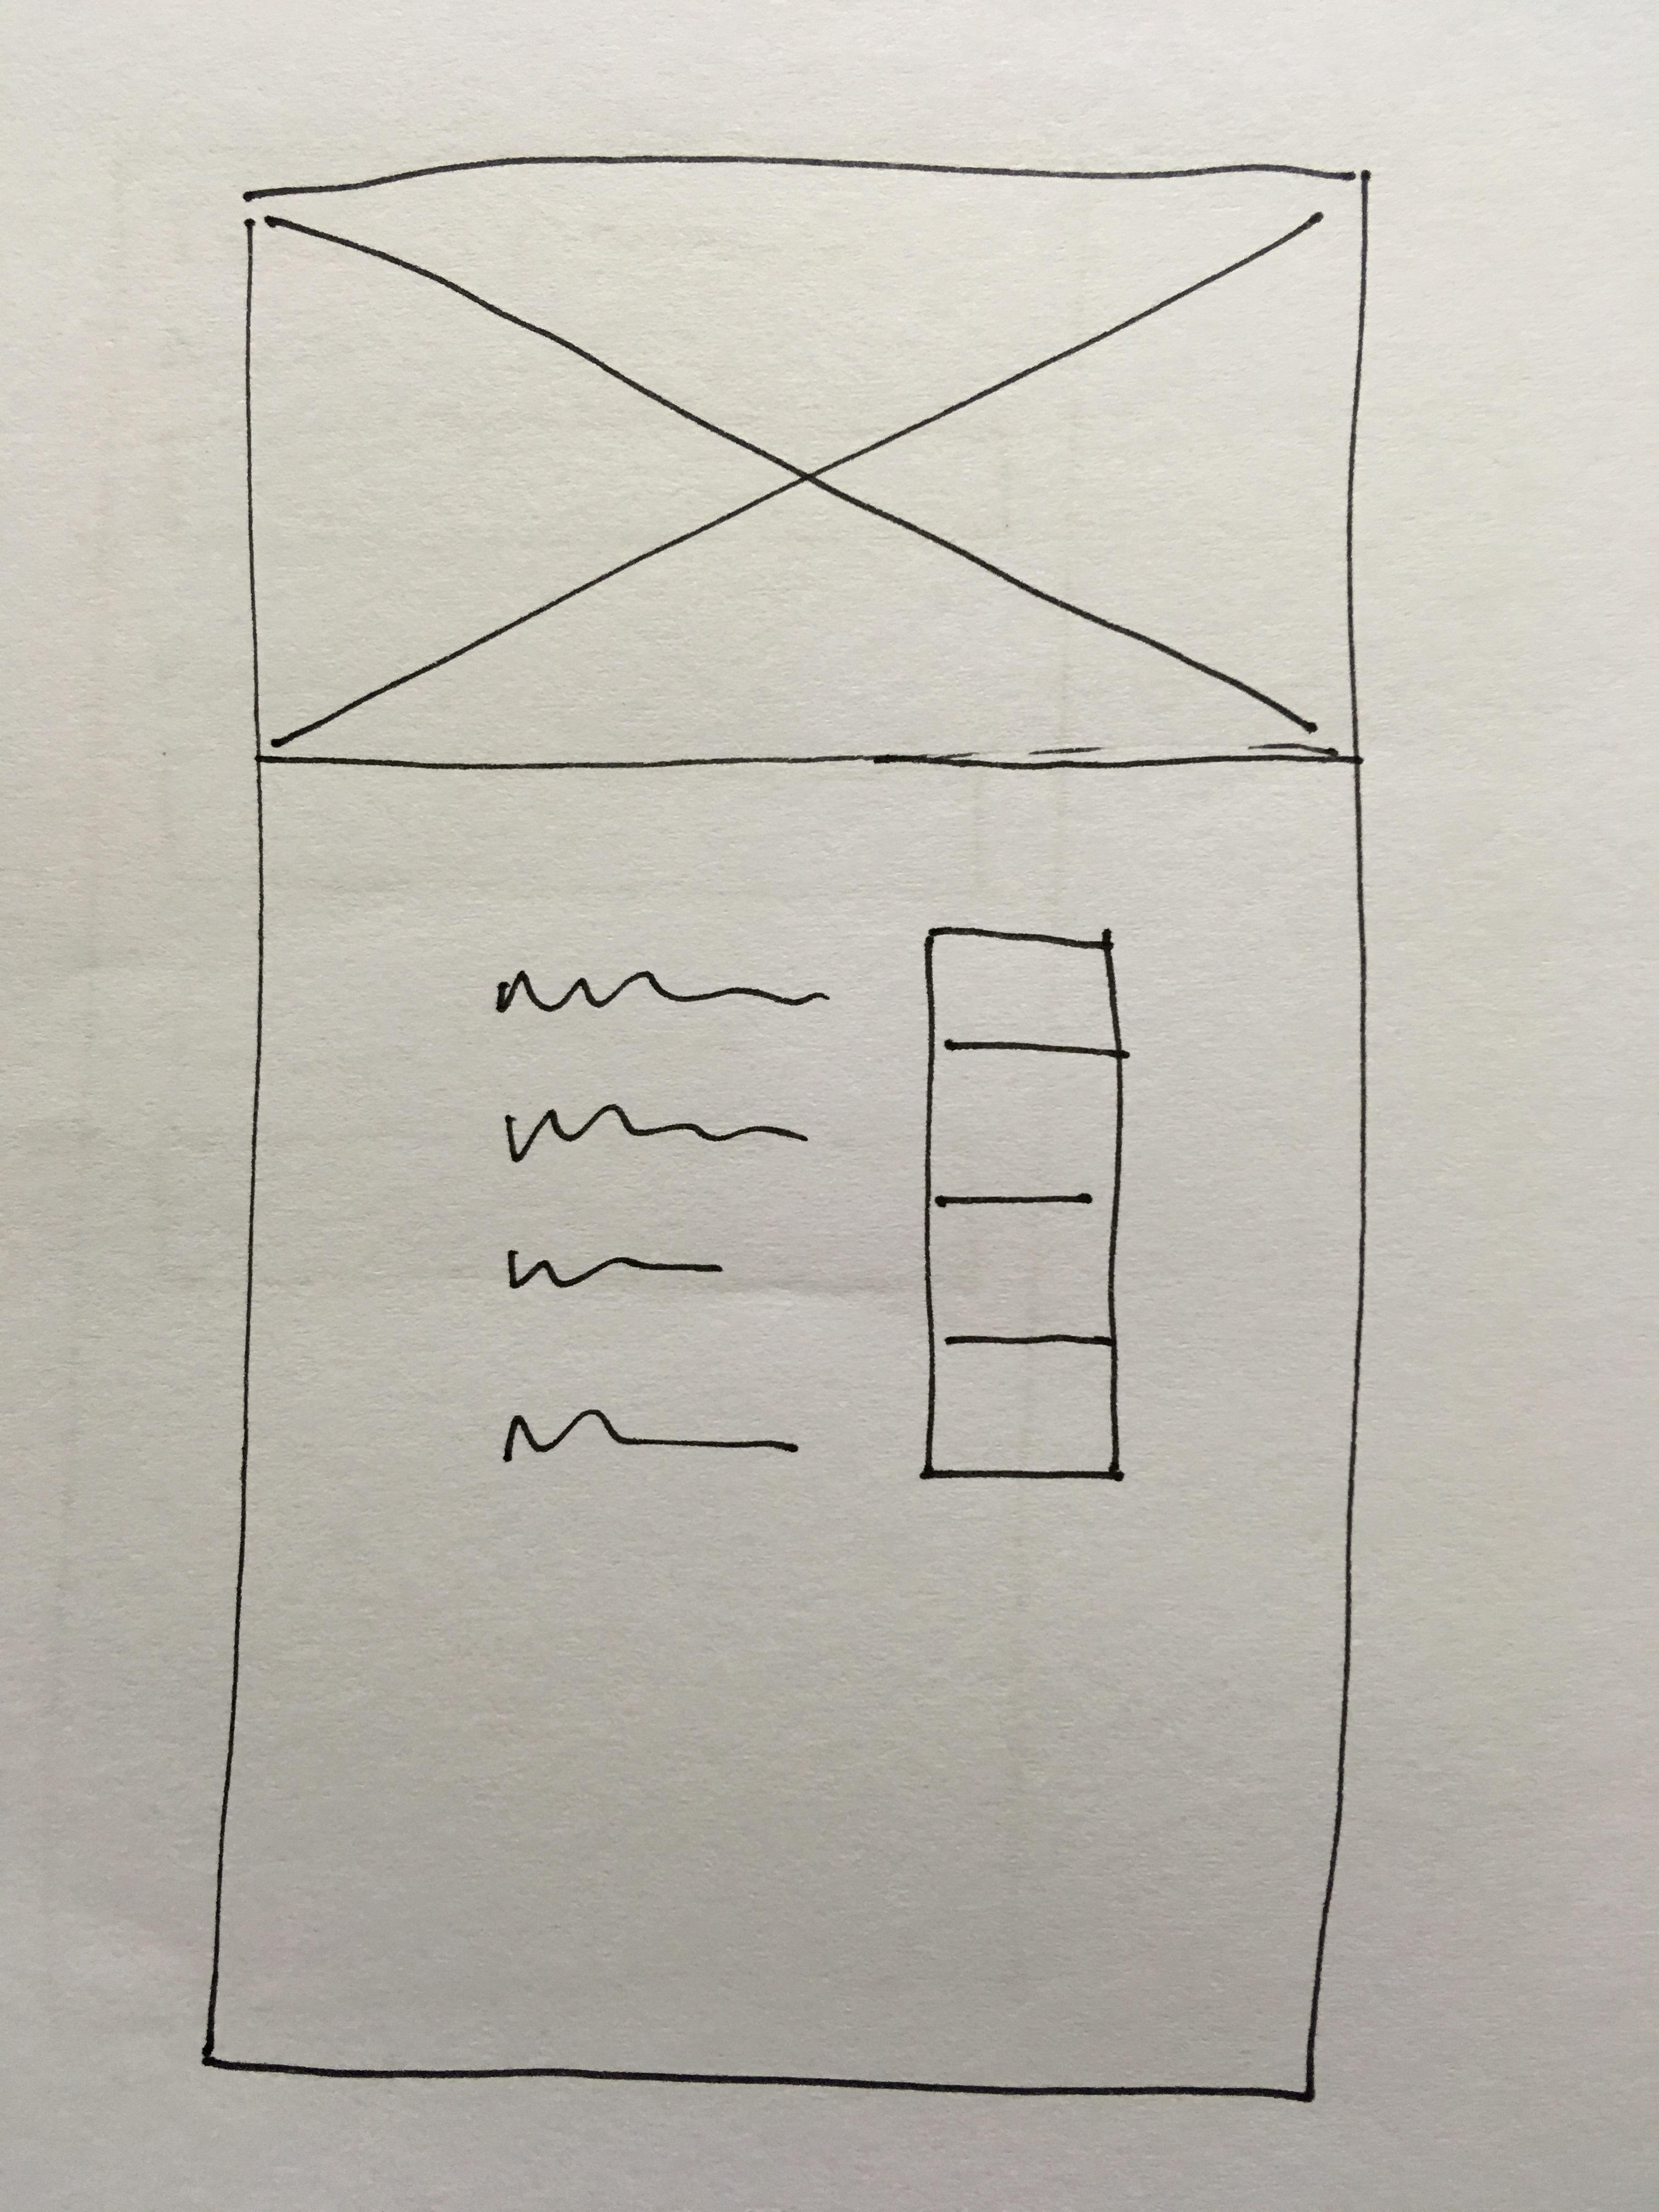Image: (256, 171, 1375, 770)
Label: (493, 1407, 810, 1479), (488, 1099, 823, 1165), (483, 961, 835, 1024), (497, 1240, 737, 1298)
Screen: (200, 165, 1378, 2099)
